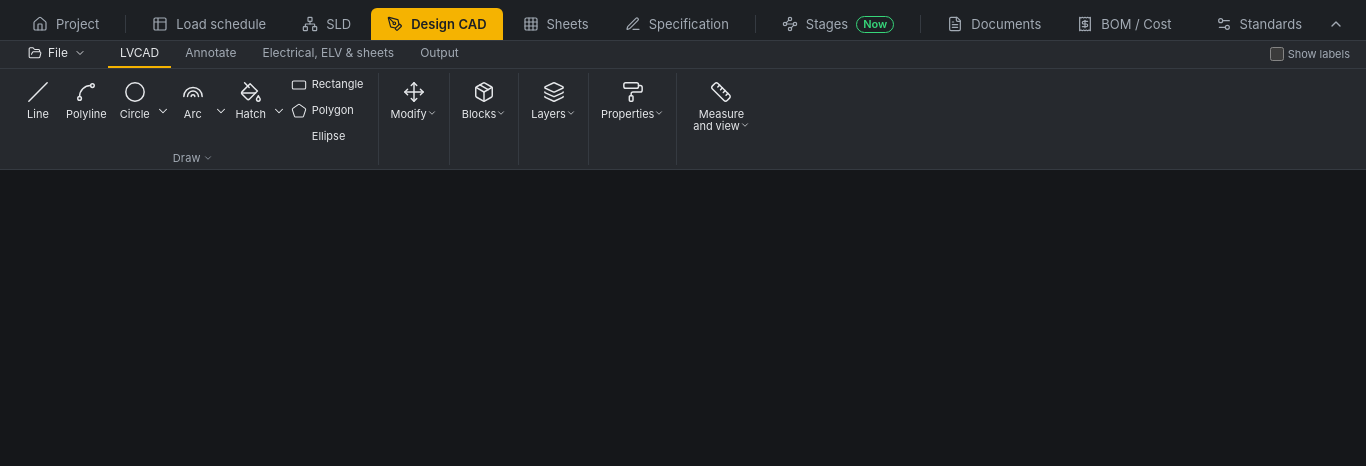
Test: Design CAD ribbon: sheets and layouts › a window too narrow for the row folds its panels from the right, one at a time, each to one tool named for it
Later steps or results of the test are not shown.
Click the tab "Output": coordinates (439, 54) [408,41,471,68]
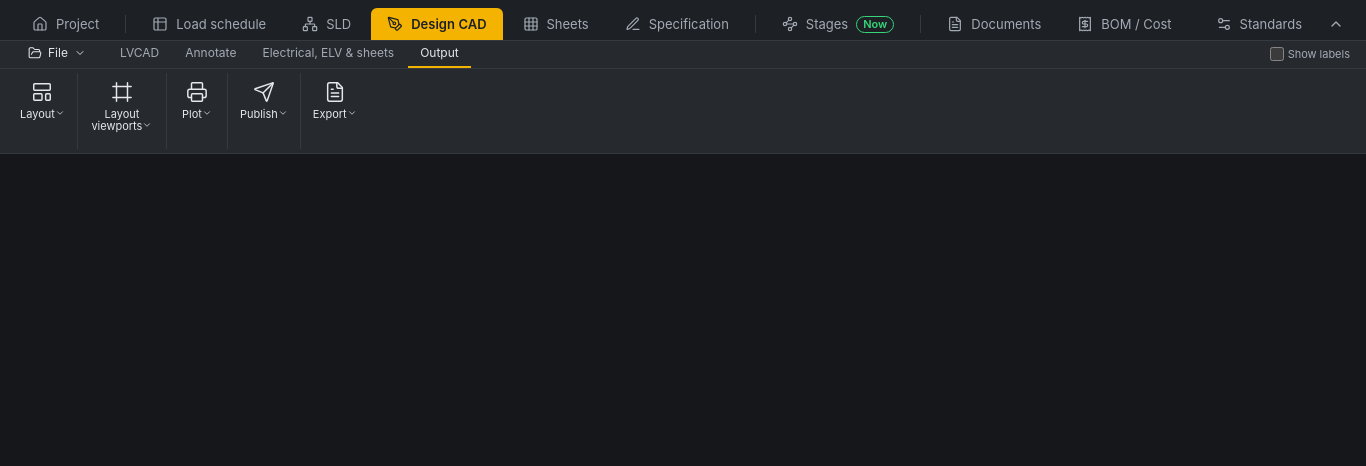
Expected: the button with class "ribbon-caption" is gone
Expected: the button "Layout viewports" is shown
Hover over the button "Layout viewports": coordinates (122, 111) [86,73,158,149]
Wait 400 ms
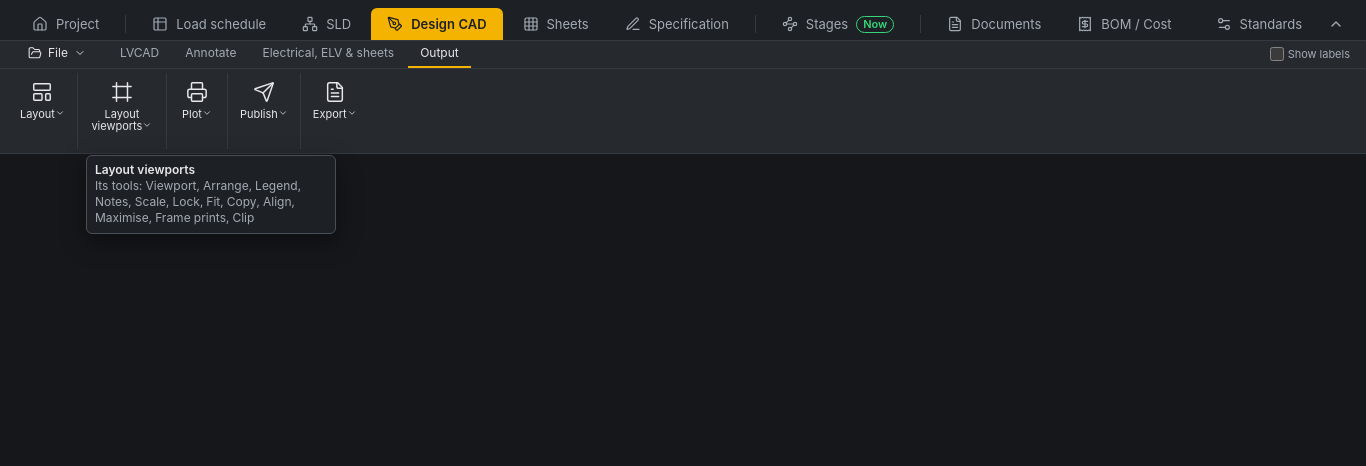
Click the button "Layout": coordinates (42, 111) [16,73,69,149]
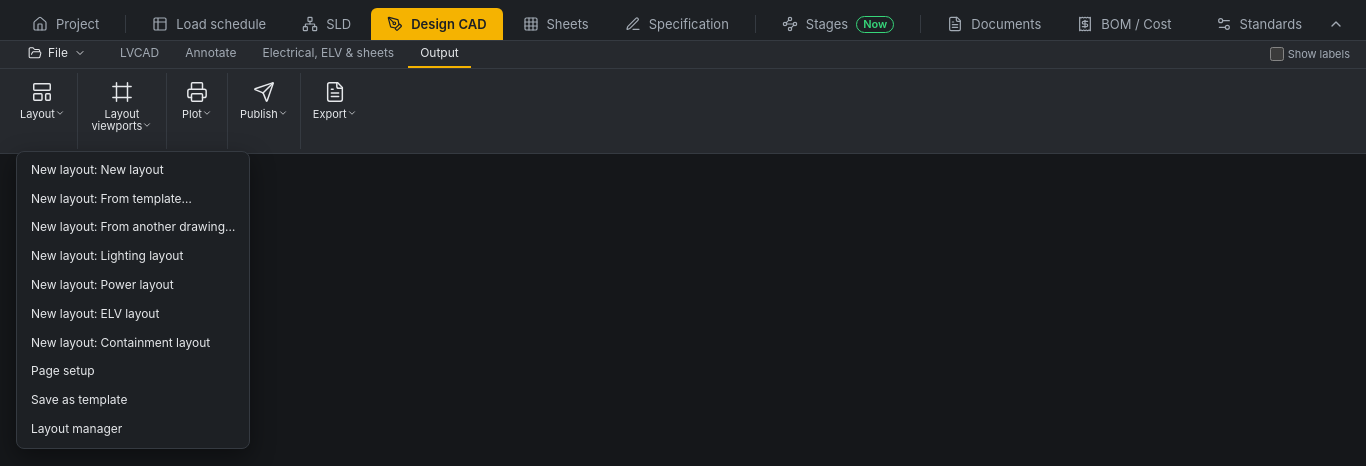
Click the menu item "New layout: Power layout": coordinates (133, 285) [21,271,245,300]
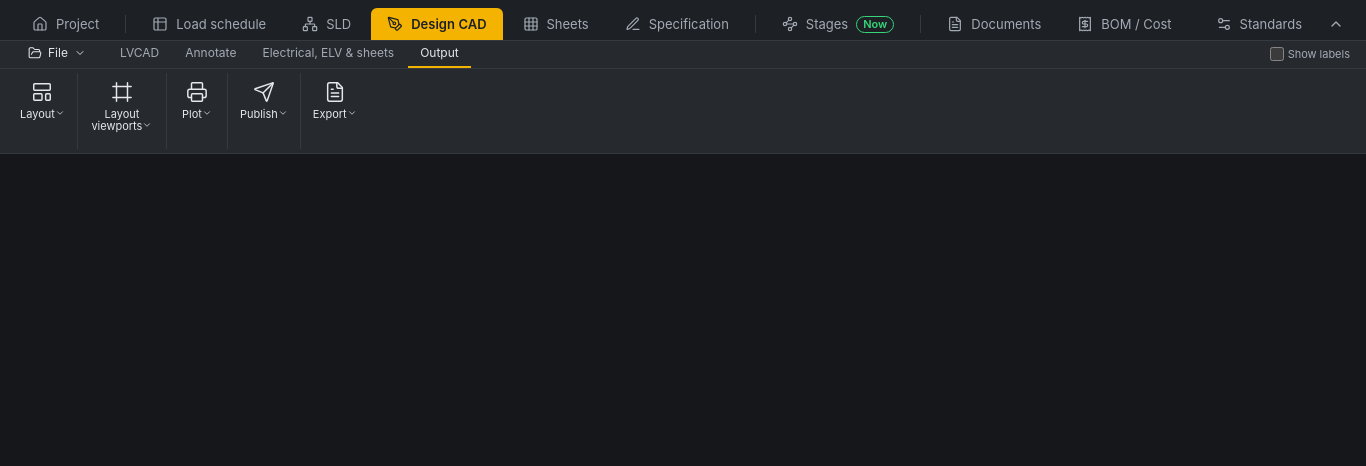
Click the tab "Electrical, ELV & sheets": coordinates (328, 54) [250,41,406,68]
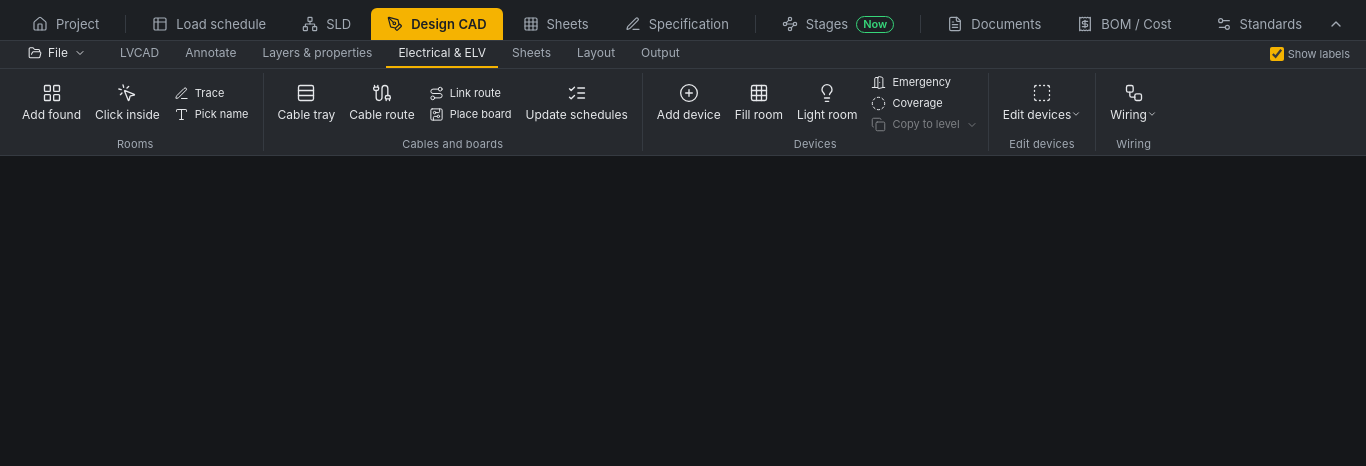
Expected: the tab "Electrical & ELV" is shown, [386,41,498,68]
Expected: the text with class "ribbon-caption" reads "Wiring", [1116,137,1151,151]
